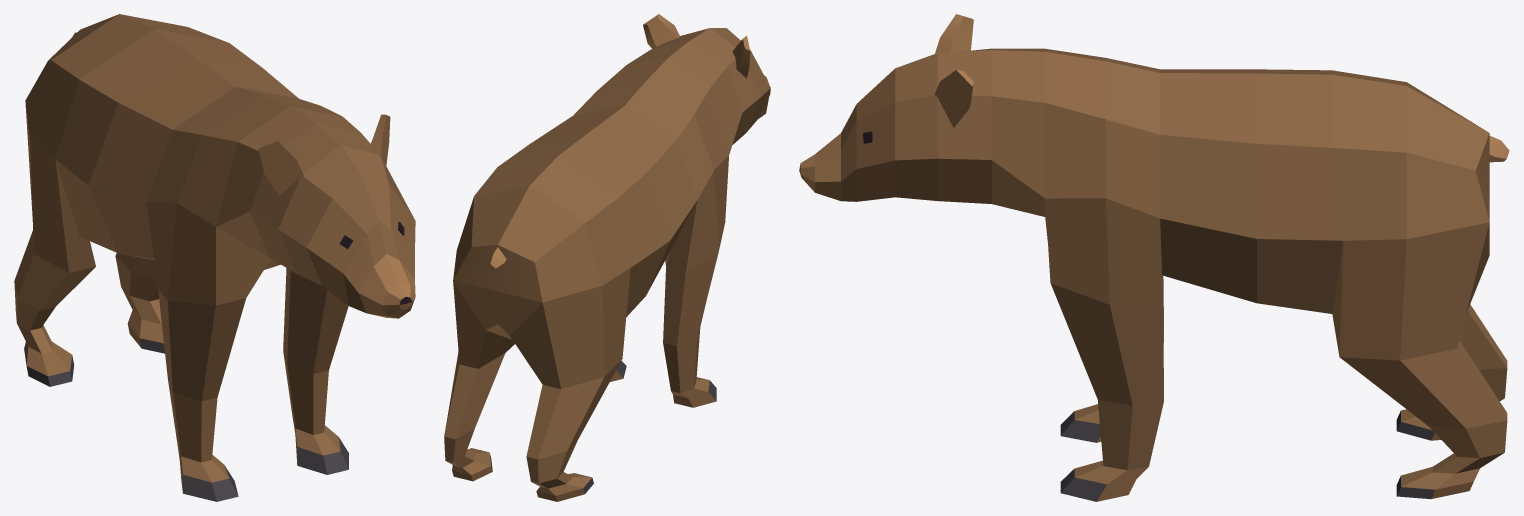
The model's file is bear.glb.
The picture shows the model from 3 angles, left to right: view 1: azimuth 30°, elevation 25°; view 2: azimuth 150°, elevation 25°; view 3: azimuth 270°, elevation 25°; orthographic projection. The views are drawn at different scales.
Parts seen in each view (by area): view 1: Geo_Bear; view 2: Geo_Bear; view 3: Geo_Bear.
Part boxes in pixels (bbox=[...]): Geo_Bear: bbox=[14, 14, 415, 501]; Geo_Bear: bbox=[444, 14, 770, 501]; Geo_Bear: bbox=[799, 14, 1509, 501].
Bounding box in the file's own units: 0.6492 × 1.2 × 1.85.
1 material, 1 textured.
